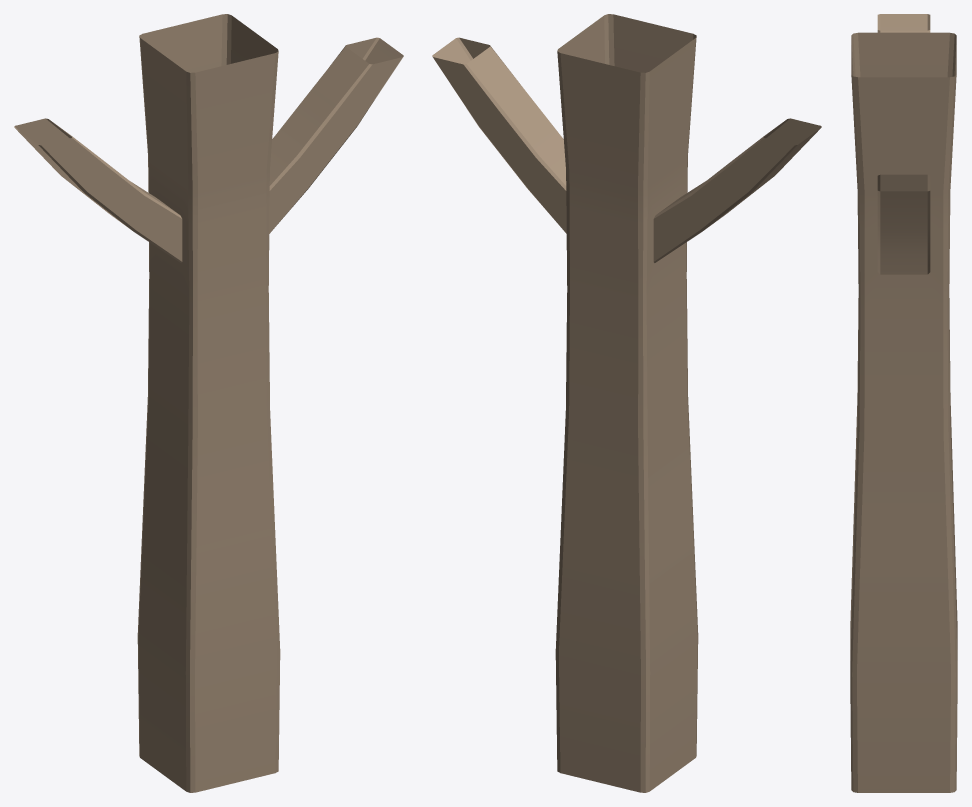
The model's file is tav_pillar.fbx.
The picture shows the model from 3 angles, left to right: view 1: azimuth 30°, elevation 25°; view 2: azimuth 150°, elevation 25°; view 3: azimuth 270°, elevation 25°; orthographic projection.
Visible parts, largest first — view 1: tav_pillar; view 2: tav_pillar; view 3: tav_pillar.
Boxes of the visible parts, left/top/right/bottom form: tav_pillar: left=14, top=14, right=403, bottom=792; tav_pillar: left=432, top=14, right=821, bottom=792; tav_pillar: left=850, top=14, right=957, bottom=792.
Size of the model in its own units: 159 by 300 by 40.89.
